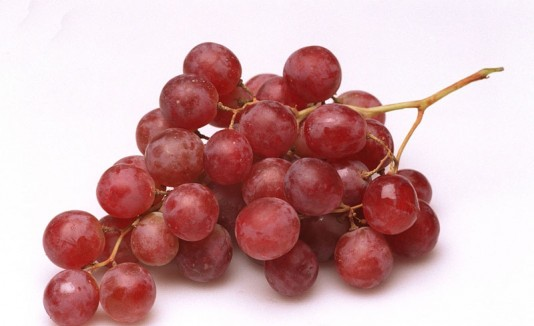Red Grapes: (22, 21, 446, 326)
